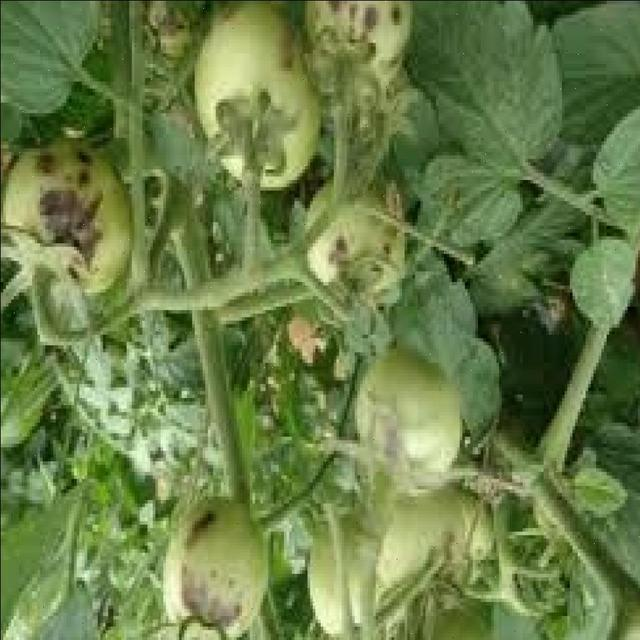Spotted wilt Virus Fruit: (46, 33, 274, 379)
